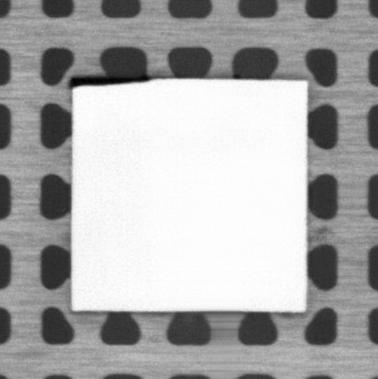DIE_BROKEN: (69, 74, 152, 90)
